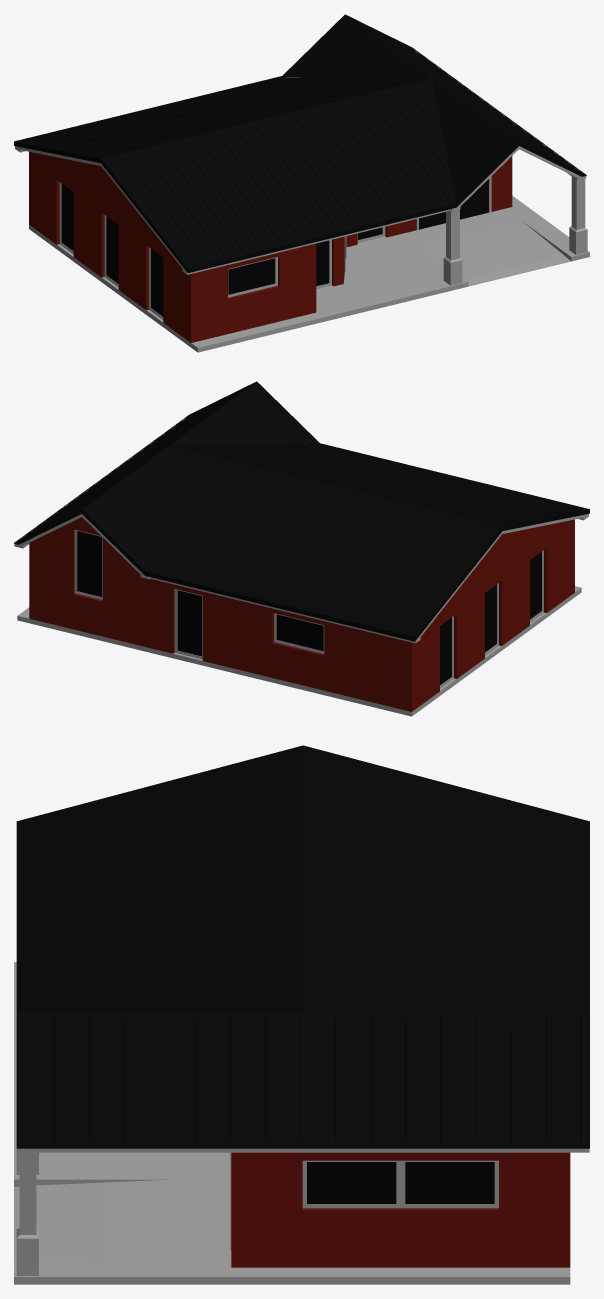
The model's file is House2.fbx.
The picture shows the model from 3 angles, top to bottom: view 1: azimuth 30°, elevation 25°; view 2: azimuth 150°, elevation 25°; view 3: azimuth 270°, elevation 25°; orthographic projection. The views are drawn at different scales.
Parts seen in each view (by area): view 1: Roof001, Walls, Base, Roof002, RoofCorner, Columns, RoofCorner004, Glass001, RoofStructure001, GarageDoor, RoofCorner001, RoofCorner005 (+10 smaller); view 2: Roof001, Walls, Roof002, Base, RoofCorner, RoofCorner009, Glass010, Glass011, Glass005, RoofStructure001, RoofCorner001, RoofCorner010 (+9 smaller); view 3: Roof001, Roof002, Base, Walls, RoofCorner, RoofCorner008, Glass006, Glass007, RoofCorner001, RoofStructure002, Columns, RoofCorner004 (+7 smaller).
Part boxes in pixels (x1,y1,x2,y2): Roof001: [21, 77, 452, 264]; Walls: [29, 151, 512, 342]; Base: [29, 196, 589, 352]; Roof002: [285, 18, 578, 197]; RoofCorner: [102, 78, 432, 162]; Columns: [443, 177, 587, 285]; RoofCorner004: [188, 200, 456, 272]; Glass001: [228, 258, 275, 294]; RoofStructure001: [15, 77, 450, 274]; GarageDoor: [419, 179, 488, 229]; RoofCorner001: [345, 16, 518, 142]; RoofCorner005: [101, 158, 191, 272]; Roof001: [149, 444, 582, 633]; Walls: [29, 517, 574, 711]; Roof002: [22, 385, 313, 564]; Base: [17, 586, 581, 716]; RoofCorner: [168, 445, 501, 530]; RoofCorner009: [145, 568, 414, 641]; Glass010: [177, 590, 201, 656]; Glass011: [77, 531, 101, 596]; Glass005: [276, 614, 323, 651]; RoofStructure001: [150, 514, 588, 643]; RoofCorner001: [82, 383, 257, 509]; RoofCorner010: [411, 526, 502, 641]; Roof001: [24, 751, 582, 1011]; Roof002: [24, 1017, 582, 1141]; Base: [14, 962, 570, 1284]; Walls: [231, 1152, 570, 1267]; RoofCorner: [291, 748, 314, 1011]; RoofCorner008: [24, 1142, 582, 1148]; Glass006: [307, 1162, 396, 1203]; Glass007: [405, 1162, 494, 1203]; RoofCorner001: [24, 1011, 582, 1016]; RoofStructure002: [16, 1148, 589, 1152]; Columns: [16, 1152, 38, 1275]; RoofCorner004: [16, 822, 23, 1011].
Bounding box in the file's own units: 13688 × 4297 × 10335.
